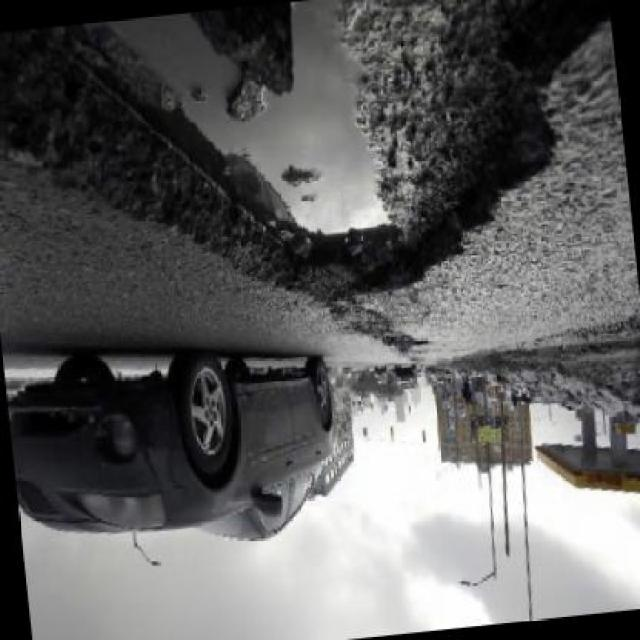pothole1: (0, 0, 637, 348)
